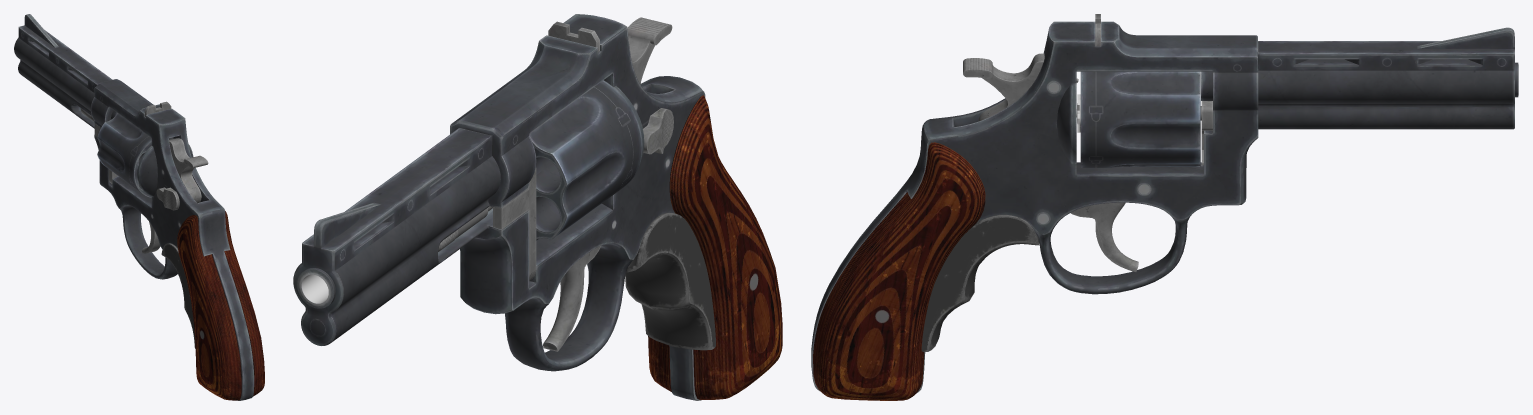
The model's file is revolver.optimized.glb.
The picture shows the model from 3 angles, left to right: view 1: azimuth 30°, elevation 25°; view 2: azimuth 150°, elevation 25°; view 3: azimuth 270°, elevation 25°; orthographic projection. The views are drawn at different scales.
Visible parts, largest first — view 1: Object_2; view 2: Object_2, Object_6; view 3: Object_2.
Boxes of the visible parts, <box> form: Object_2: <box>14,14,264,400</box>; Object_2: <box>293,14,782,400</box>; Object_6: <box>438,206,492,251</box>; Object_2: <box>811,14,1518,400</box>.
Bounding box in the file's own units: 38.16 × 143 × 248.
Materials: 2 (2 with a texture image).
